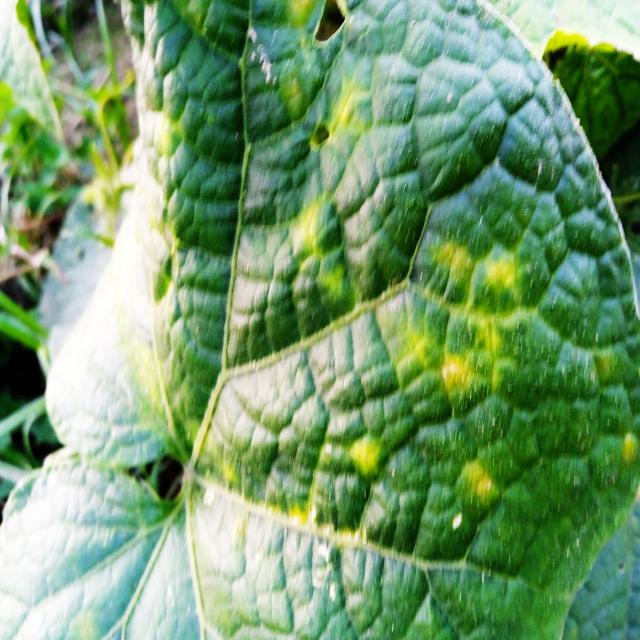Downy-Mildew: (0, 1, 640, 640)
